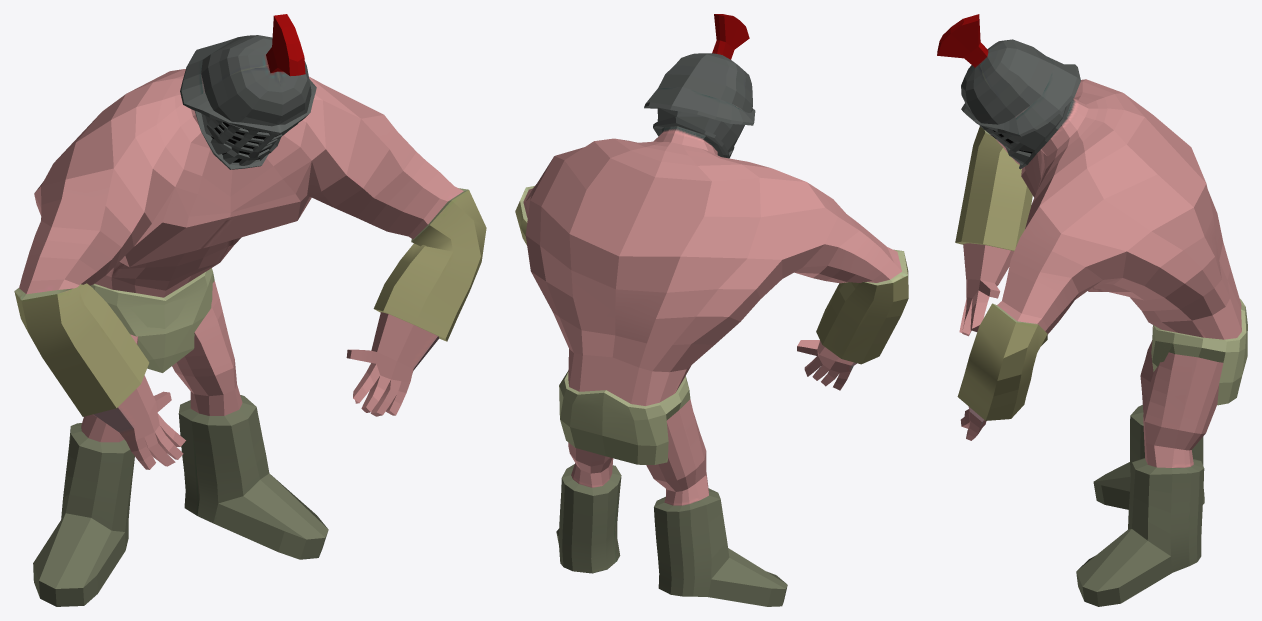
Rendered from GladiatorCelebracion_000462.obj.
3 renders of one model, left to right at view 1: azimuth 30°, elevation 25°; view 2: azimuth 150°, elevation 25°; view 3: azimuth 270°, elevation 25°, orthographic. The views are drawn at different scales.
Parts seen in each view (by area): view 1: Gadiador_Gladiador_H; view 2: Gadiador_Gladiador_H; view 3: Gadiador_Gladiador_H.
Part boxes in pixels (box(x1,y1,x2,y2)): Gadiador_Gladiador_H: box(14, 14, 486, 606); Gadiador_Gladiador_H: box(515, 14, 908, 606); Gadiador_Gladiador_H: box(937, 14, 1247, 606).
Bounding box in the file's own units: 5.19 × 6.57 × 3.41.
1 material, 1 textured.
